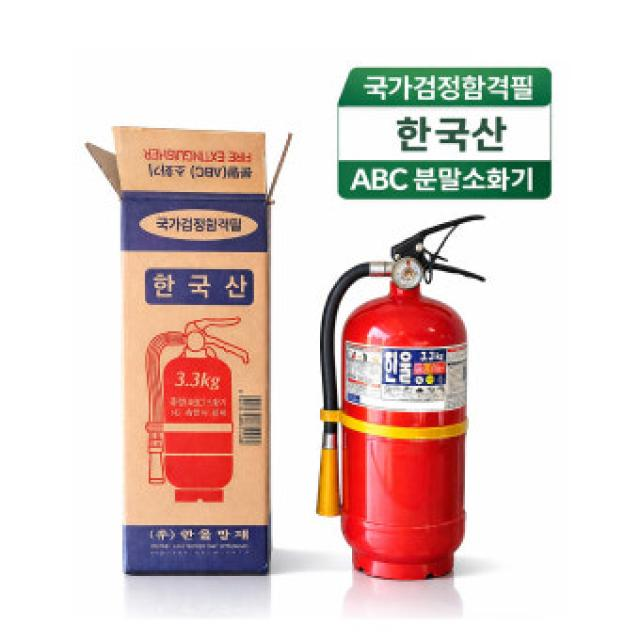pressure gauge: (392, 258, 423, 289)
